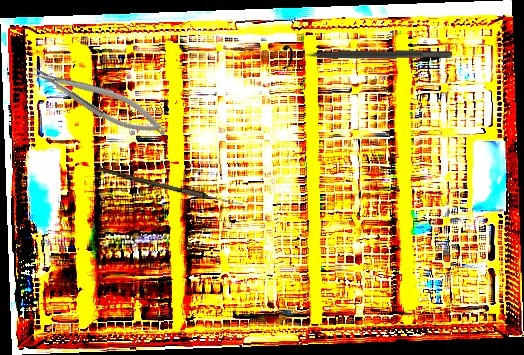Fixation Ring: (281, 41, 453, 71)
Needle Holder: (25, 51, 172, 148)
Surgical Spoon: (98, 167, 244, 208)
